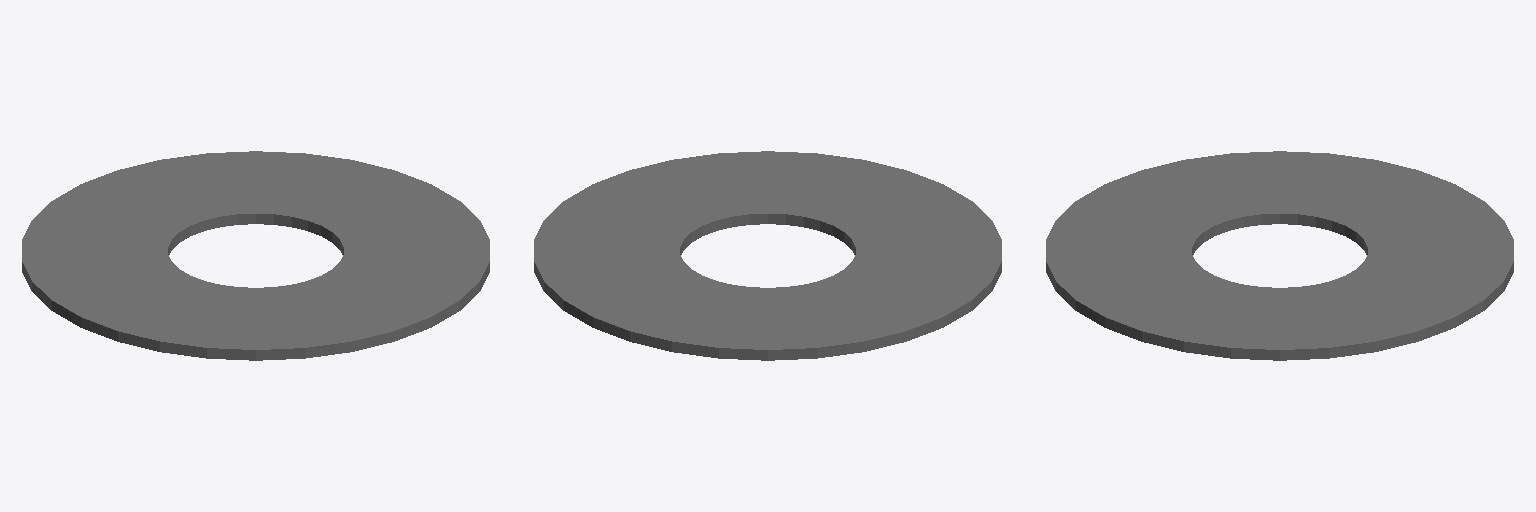
The model's file is ride_ring.obj.
3 views of the same model, side by side, from view 1: azimuth 30°, elevation 25°; view 2: azimuth 150°, elevation 25°; view 3: azimuth 270°, elevation 25° (orthographic).
Parts seen in each view (by area): view 1: ride_ring; view 2: ride_ring; view 3: ride_ring.
Part boxes in pixels (x1,y1,x2,y2): ride_ring: (22,151,489,360); ride_ring: (534,151,1001,360); ride_ring: (1046,151,1513,360).
Size of the model in its own units: 80.28 by 2 by 79.84.